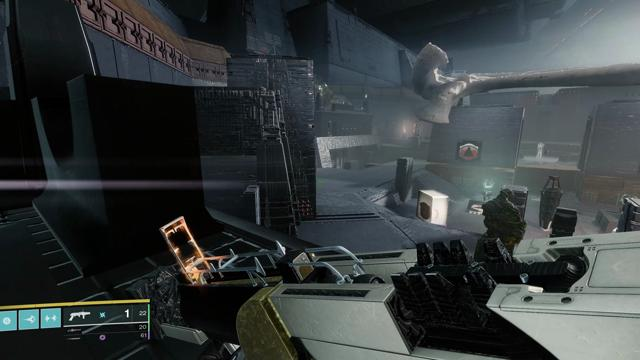pyramid: (459, 143, 479, 160)
